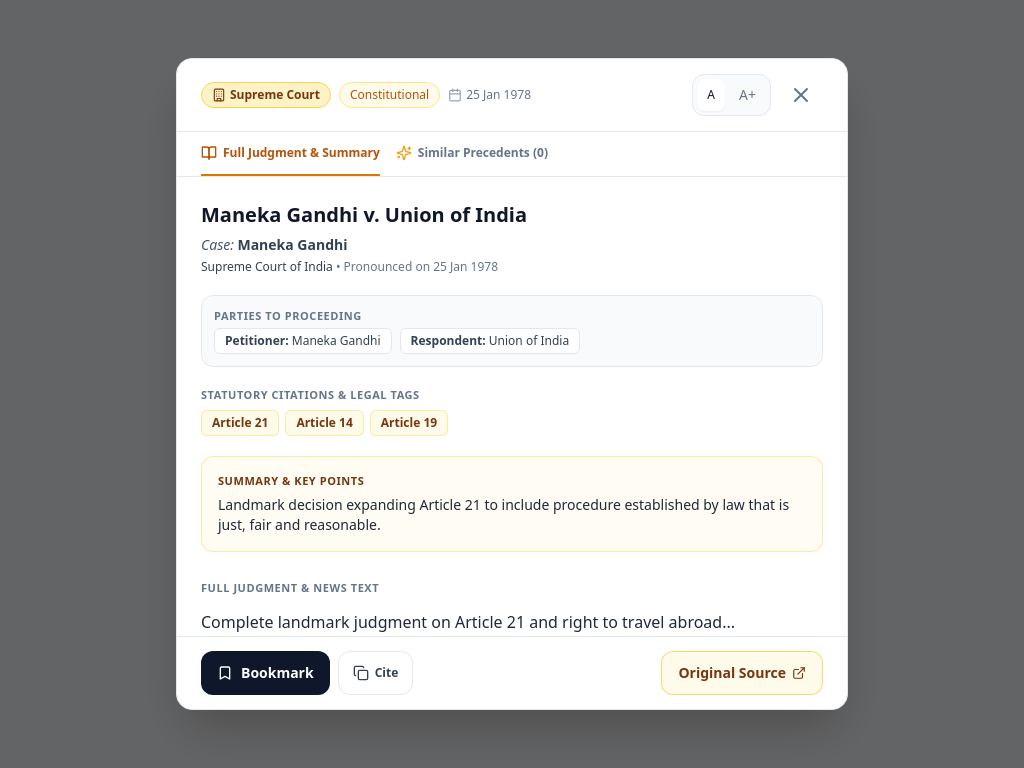
Test: JudgmentModal Component › switches to similar precedents tab when clicked
Click the button "Similar Precedents (0)" at x=472, y=154, box [396,132,548,176]
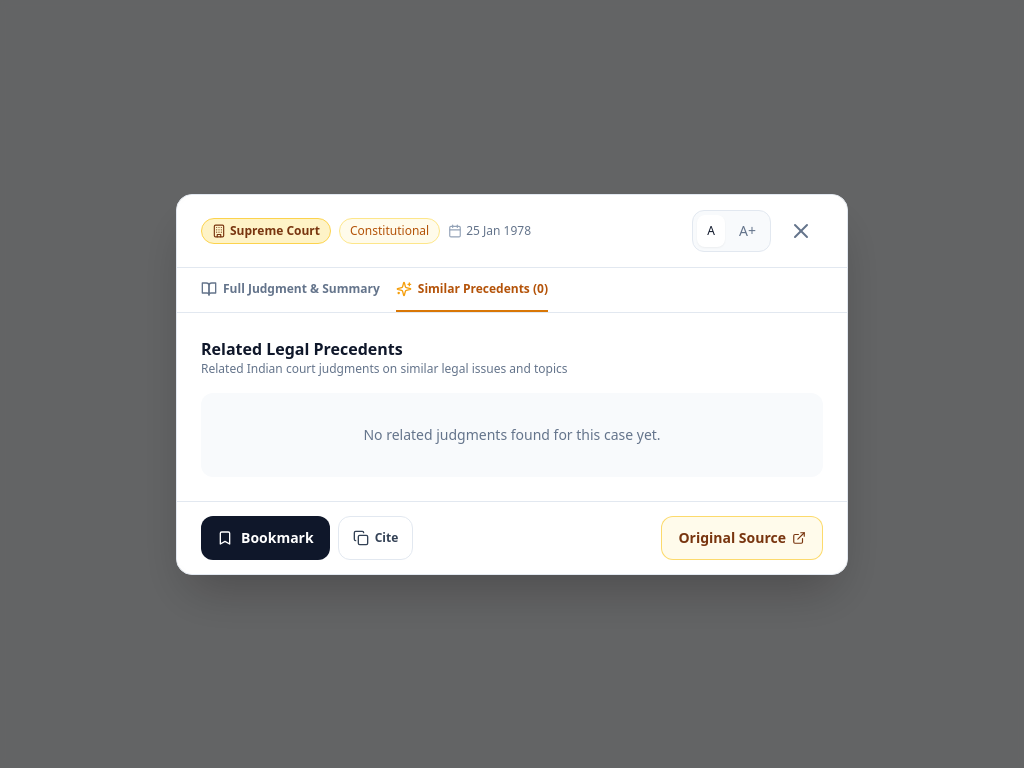
Result: the heading "Related Legal Precedents" is shown at [201,338,403,360]
